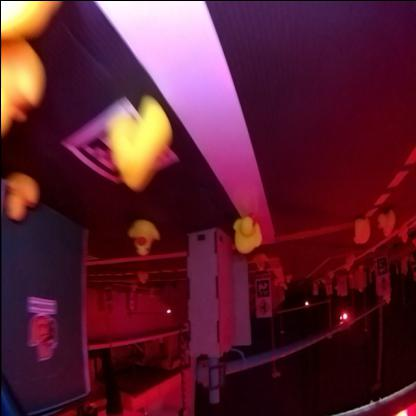Duckie: (113, 100, 172, 190), (232, 216, 262, 255), (130, 223, 160, 257), (352, 218, 370, 245)
QR code: (62, 101, 178, 184)
